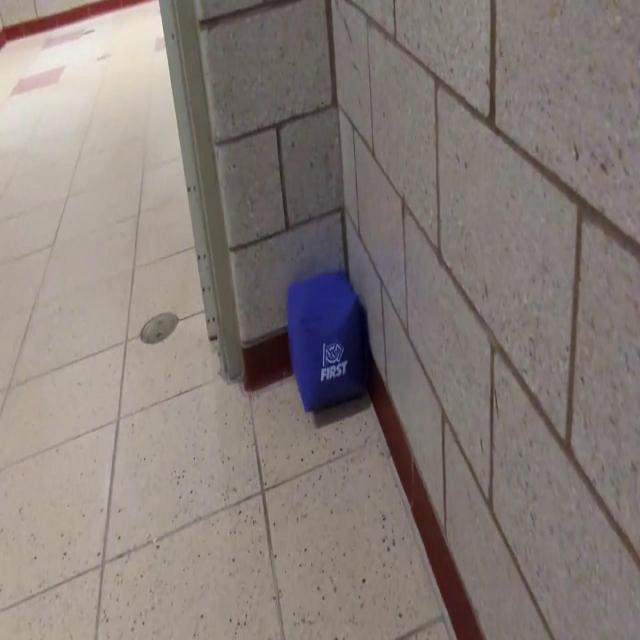frc_cube: (287, 270, 363, 416)
